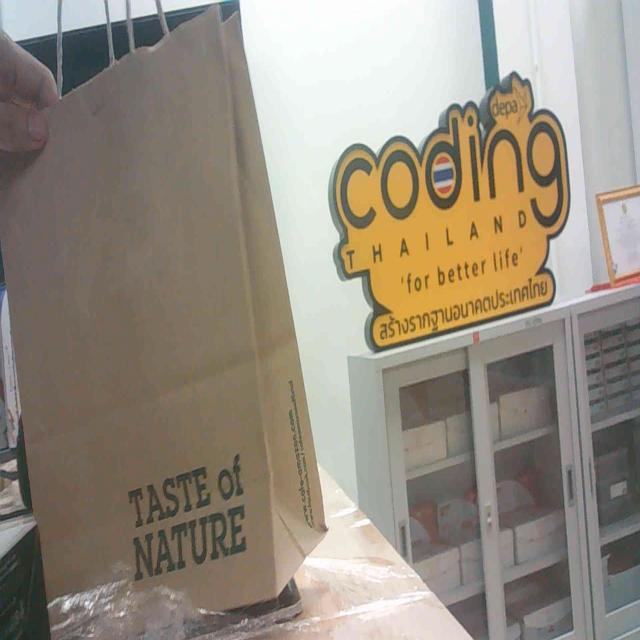bag: (7, 44, 340, 640)
